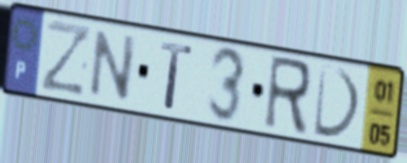3: (205, 42, 248, 129)
D: (311, 62, 365, 142)
N: (85, 27, 141, 104)
R: (260, 53, 314, 140)
T: (158, 38, 195, 113)
Z: (38, 16, 94, 99)
